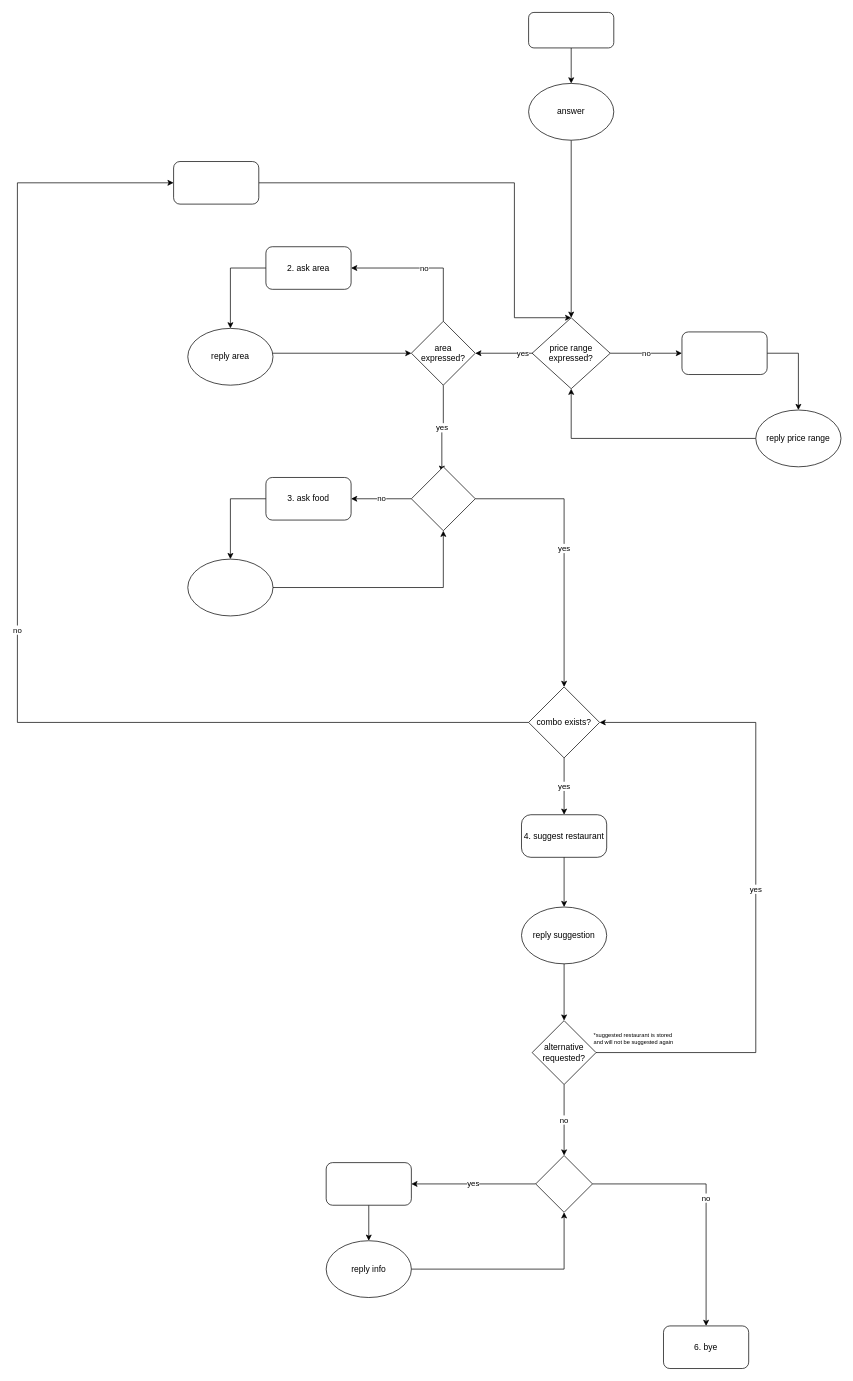
Image size: 853x1381. Some labels were removed from this diagram. The centre of each missing label's shape, as x and y in pixels:
0. welcome: [571,30]
1. ask price range: [724,353]
5. give info: [368,1183]
7. restart: [216,182]
food expressed?: [443,498]
reply food: [230,587]
request expressed?: [563,1183]
